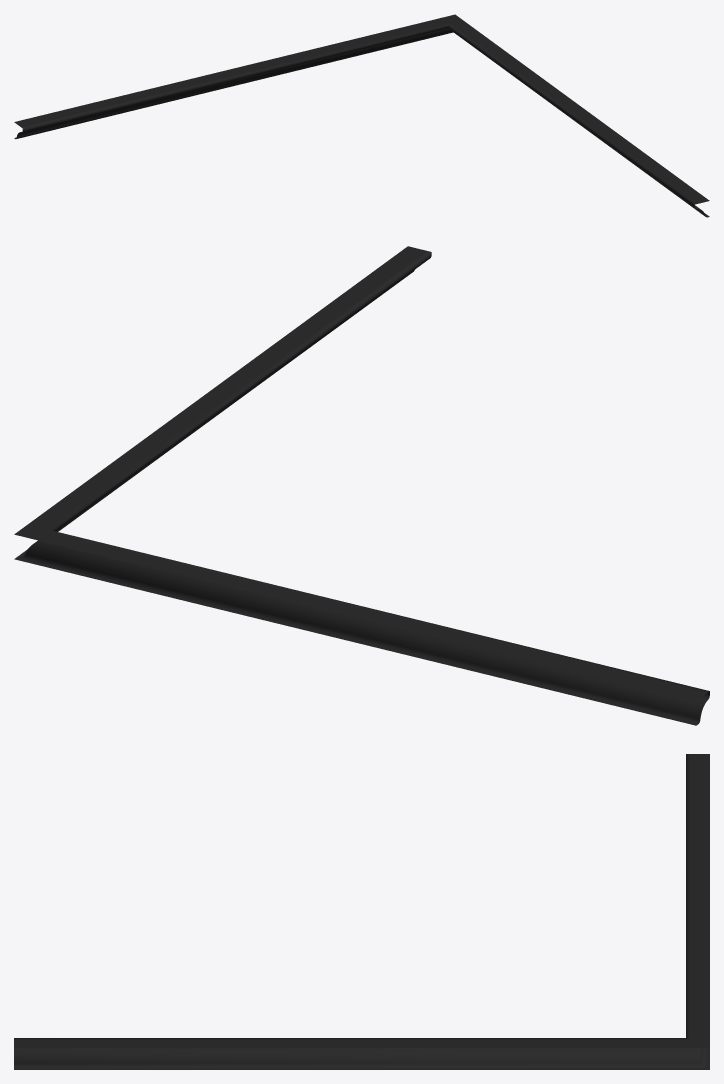
File: Ceiling_BorderTurnOut.dae
3 renders of one model, top to bottom at view 1: azimuth 30°, elevation 25°; view 2: azimuth 150°, elevation 25°; view 3: azimuth 270°, elevation 25°, orthographic. The views are drawn at different scales.
Parts seen in each view (by area): view 1: polySurface388; view 2: polySurface388; view 3: polySurface388.
Boxes of the visible parts, box(x1,y1,x2,y2) form: polySurface388: box(14, 14, 709, 217); polySurface388: box(14, 246, 709, 725); polySurface388: box(14, 754, 709, 1069).
Size of the model in its own units: 4 by 0.1384 by 4.
1 material, 1 textured.
